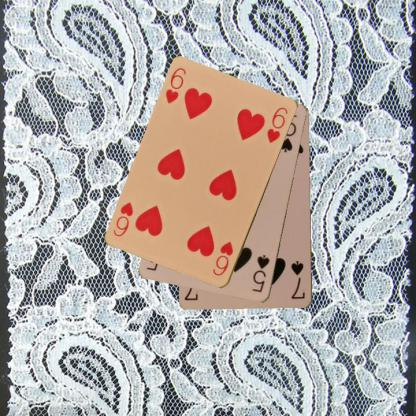5s: (250, 253, 271, 294)
6h: (163, 65, 188, 106), (210, 238, 235, 278)
7s: (288, 258, 306, 300)
